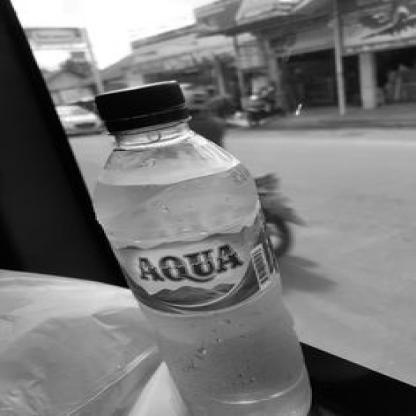plastic_bottles: (81, 78, 327, 414)
